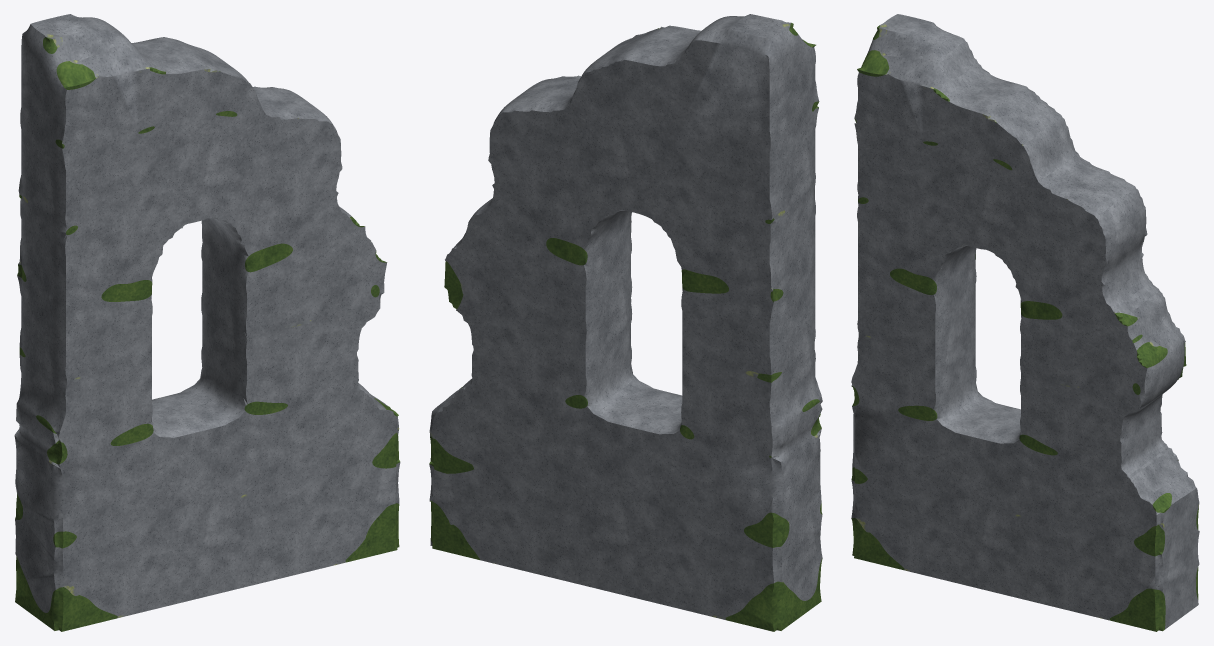
File: ruin_wall_window.glb
3 views of the same model, side by side, from view 1: azimuth 30°, elevation 25°; view 2: azimuth 150°, elevation 25°; view 3: azimuth 330°, elevation 25° (orthographic). The views are drawn at different scales.
Parts seen in each view (by area): view 1: wilds_ruins_ruin_wall_window; view 2: wilds_ruins_ruin_wall_window; view 3: wilds_ruins_ruin_wall_window.
Part boxes in pixels (x1,y1,x2,y2): wilds_ruins_ruin_wall_window: [14, 14, 400, 631]; wilds_ruins_ruin_wall_window: [429, 14, 822, 631]; wilds_ruins_ruin_wall_window: [851, 14, 1199, 631].
Size of the model in its own units: 2 by 3.2 by 0.45.
Materials: 3 (3 with a texture image).
